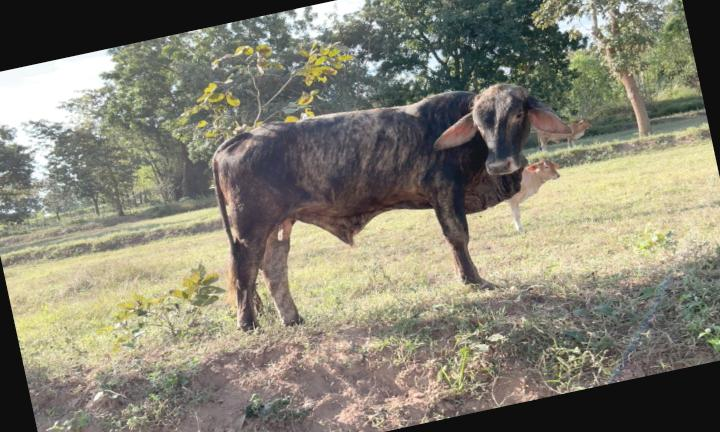Charolais: (213, 84, 568, 330)
